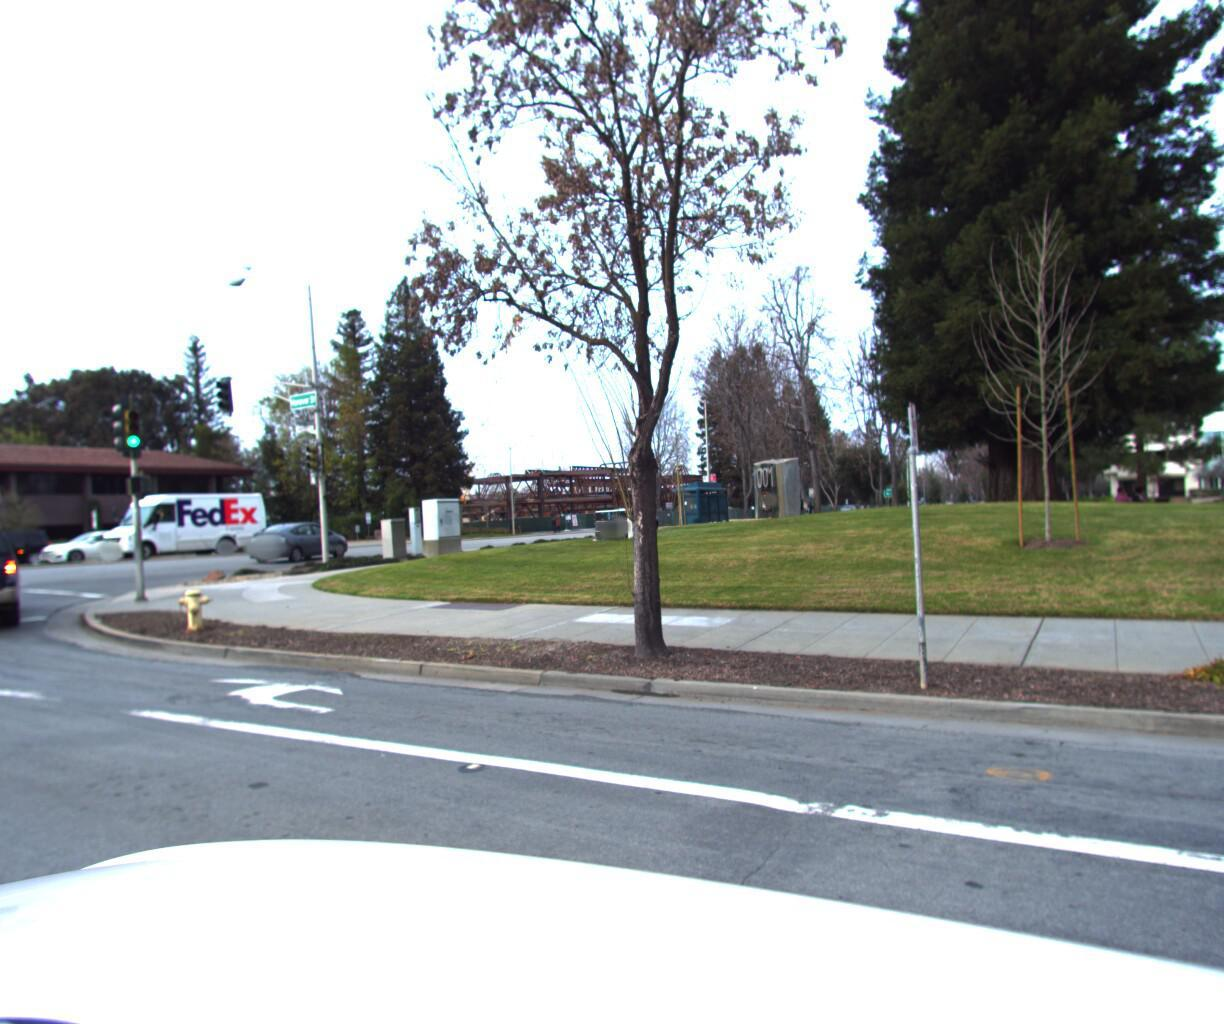car: (240, 520, 354, 564), (30, 528, 152, 567), (0, 511, 21, 644)
truck: (84, 490, 272, 563)
